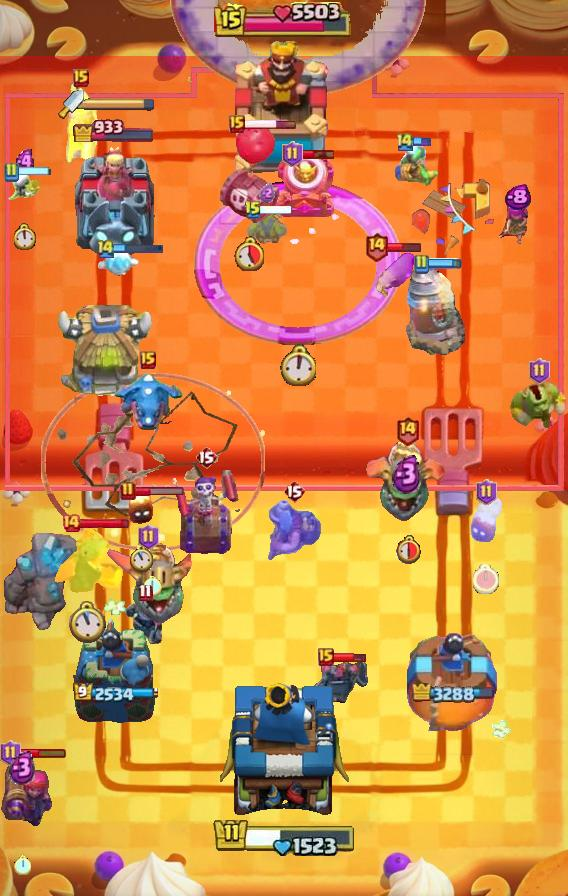bandit: (264, 492, 324, 564)
bar: (70, 142, 158, 256)
bat: (97, 246, 139, 282)
battle-ram: (309, 657, 371, 705), (123, 600, 167, 648)
bomb-tower: (62, 81, 100, 179)
bomber: (468, 495, 504, 545), (127, 493, 155, 525)
cannon: (496, 203, 538, 249)
cannoneer-tower: (0, 532, 90, 634)
clock: (212, 814, 356, 856), (214, 2, 354, 40)
electro-spirit: (392, 454, 422, 494), (8, 751, 35, 785), (505, 184, 532, 211), (14, 149, 39, 175), (259, 183, 275, 203)
electro-wizard: (49, 524, 125, 598)
elixir: (70, 600, 107, 643), (280, 344, 317, 386), (234, 237, 264, 271), (395, 534, 422, 564), (473, 564, 499, 594), (130, 546, 154, 572), (15, 223, 38, 250), (144, 575, 162, 597), (13, 855, 30, 875)
emote: (113, 242, 165, 255), (79, 517, 130, 530), (14, 747, 67, 759), (243, 119, 297, 130), (134, 486, 185, 497), (331, 651, 367, 665), (300, 148, 336, 160), (387, 241, 422, 253), (426, 259, 462, 270), (16, 166, 51, 177), (259, 205, 292, 215), (413, 136, 432, 147)
flying-machine: (510, 379, 568, 433)
giant: (369, 251, 421, 301)
giant-snowball: (391, 143, 441, 187)
goblin-cage: (273, 151, 337, 221)
graveyard: (112, 371, 184, 433)
guard: (41, 372, 265, 552)
heal-spirit: (8, 170, 42, 204)
king-tower: (219, 678, 349, 826), (228, 41, 340, 181)
king-tower-bar: (84, 97, 156, 111)
knight-evolution: (194, 181, 402, 345)
magic-archer: (405, 264, 465, 356)
mega-minion: (0, 754, 52, 826)
night-witch: (104, 541, 192, 627), (364, 440, 450, 522)
prince: (55, 305, 157, 401)
queen-tower: (70, 616, 158, 731), (407, 633, 499, 731)
rocket: (170, 0, 426, 96)
royal-recruit-evolution: (216, 123, 282, 227)
selected: (72, 116, 156, 142), (412, 683, 494, 705), (73, 684, 155, 705)
skeleton-king-bar: (172, 470, 240, 556)
text: (364, 231, 389, 262), (396, 415, 421, 446), (282, 141, 303, 167), (529, 358, 550, 384), (476, 479, 497, 505), (137, 524, 158, 550), (195, 445, 217, 469), (283, 479, 305, 503), (0, 740, 20, 766), (395, 131, 415, 153), (96, 238, 116, 259), (61, 513, 81, 533), (244, 200, 262, 220), (3, 162, 19, 182), (413, 254, 429, 274), (120, 481, 136, 501), (73, 69, 89, 87), (229, 115, 245, 133), (140, 351, 156, 369), (318, 648, 334, 666), (138, 582, 153, 601)
zap: (245, 206, 289, 248)
